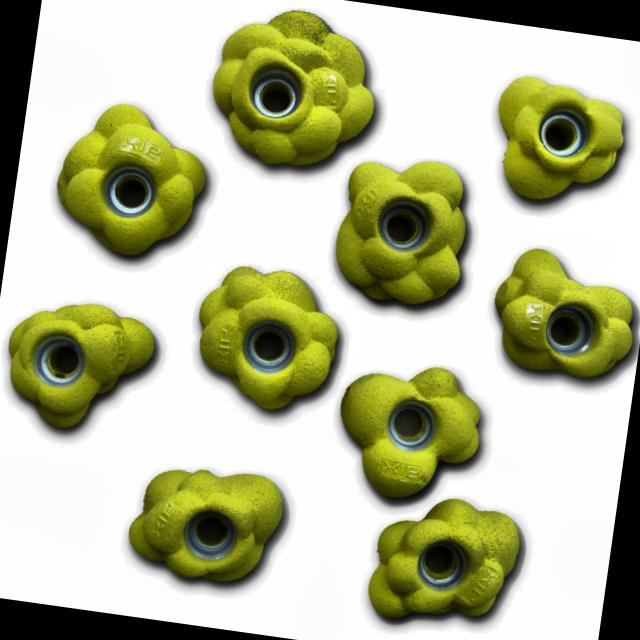Hold: (204, 0, 390, 183), (46, 96, 218, 270), (0, 283, 166, 452), (330, 144, 482, 316), (190, 258, 346, 422), (132, 450, 297, 605), (328, 359, 494, 511), (366, 486, 532, 637), (492, 62, 632, 226), (494, 243, 640, 400)
